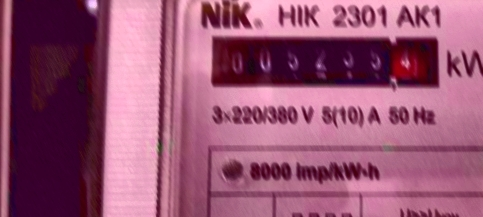0: (228, 48, 245, 75), (257, 46, 272, 71)
2: (312, 45, 327, 70)
3: (340, 42, 355, 67)
4: (397, 45, 413, 72)
5: (367, 43, 383, 70), (284, 45, 300, 71)
screen: (201, 25, 450, 97)
